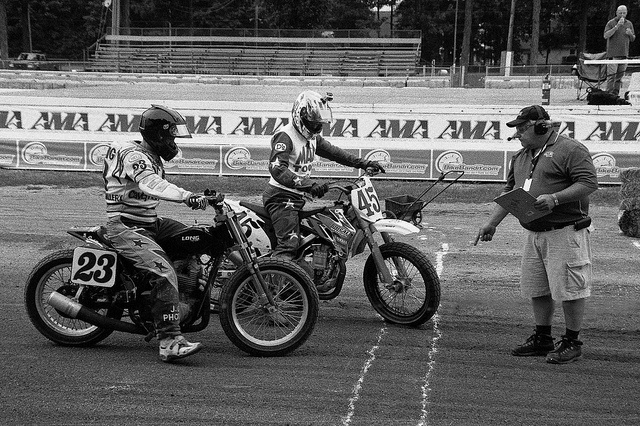non-vehicle: (24, 189, 317, 356), (240, 170, 443, 327)
